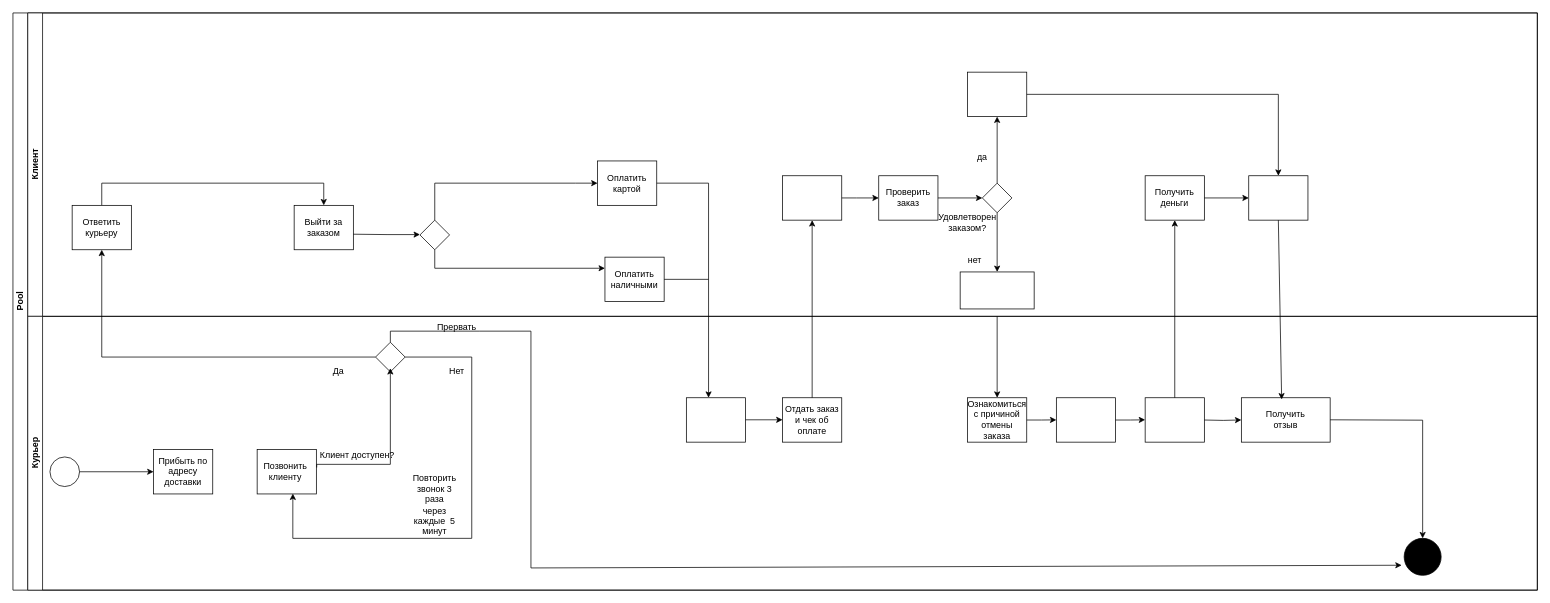
The diagram is 1550 pixels wide and 603 high, and some of its shapes have lost their labels. Here are the shapes that lost their labels. From the top down, the centre of each, then its label:
At (997,94): "Съесть пиццу".
At (812,197): "Получить заказ с чеком".
At (1278,197): "Оставить отзыв о заказе".
At (996,290): "Уведомить курьера о несоответствии заказа".
At (716,419): "Получить оплату".
At (1086,419): "Подтвердить отмену".
At (1174,419): "Произвести возврат средств".
